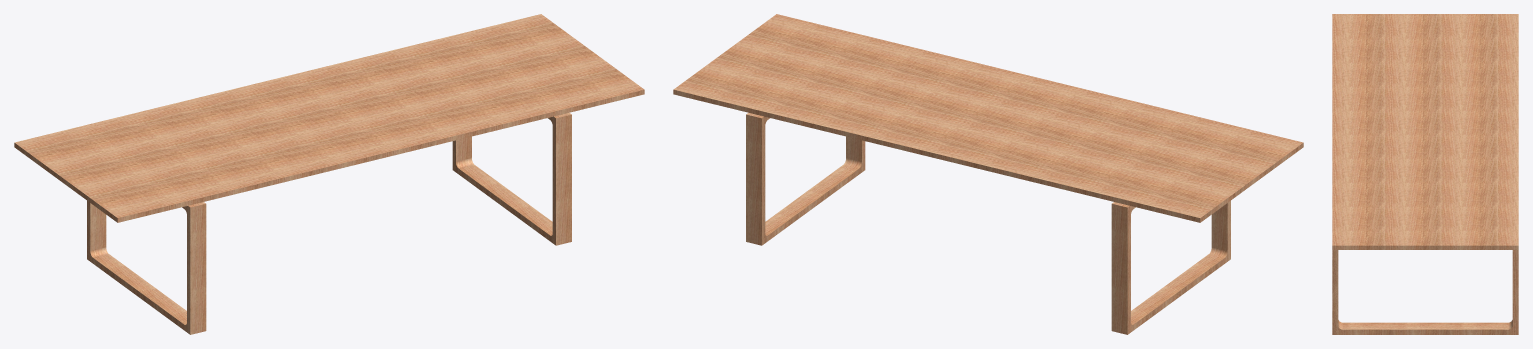
File: table-long.glb
The picture shows the model from 3 angles, left to right: view 1: azimuth 30°, elevation 25°; view 2: azimuth 150°, elevation 25°; view 3: azimuth 270°, elevation 25°; orthographic projection. The views are drawn at different scales.
Visible parts, largest first — view 1: t_long; view 2: t_long; view 3: t_long.
Part boxes in pixels (left/top/right/bottom): t_long: left=14, top=14, right=644, bottom=334; t_long: left=673, top=14, right=1303, bottom=334; t_long: left=1332, top=14, right=1518, bottom=334.
Size of the model in its own units: 2.95 by 0.7188 by 1.
1 material, 1 textured.
